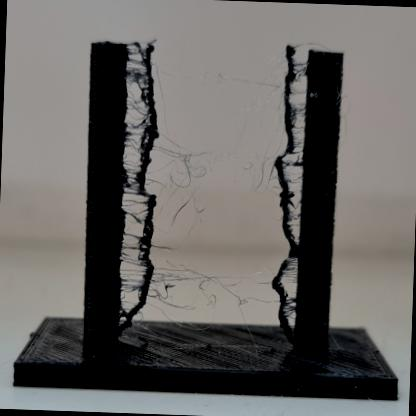fail: (119, 41, 165, 320), (270, 44, 308, 326)
